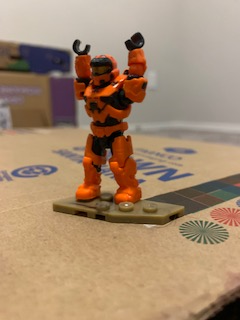spartan: (66, 29, 147, 204)
up: (68, 31, 149, 124)
